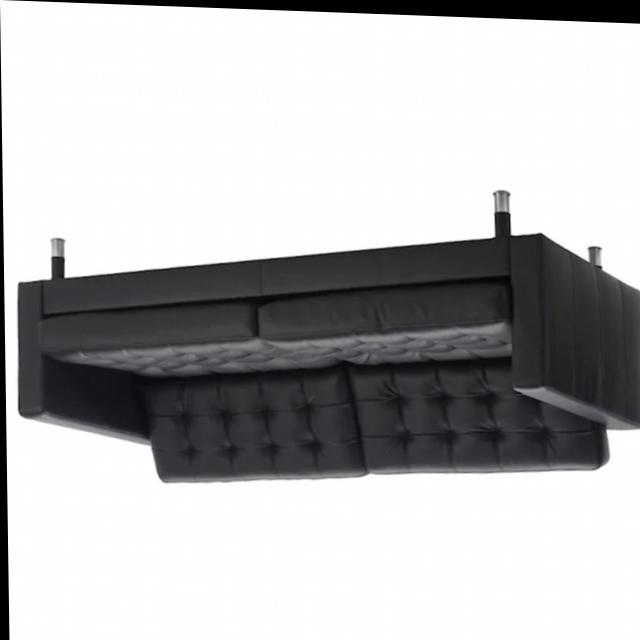Sofa: (12, 170, 640, 499)
